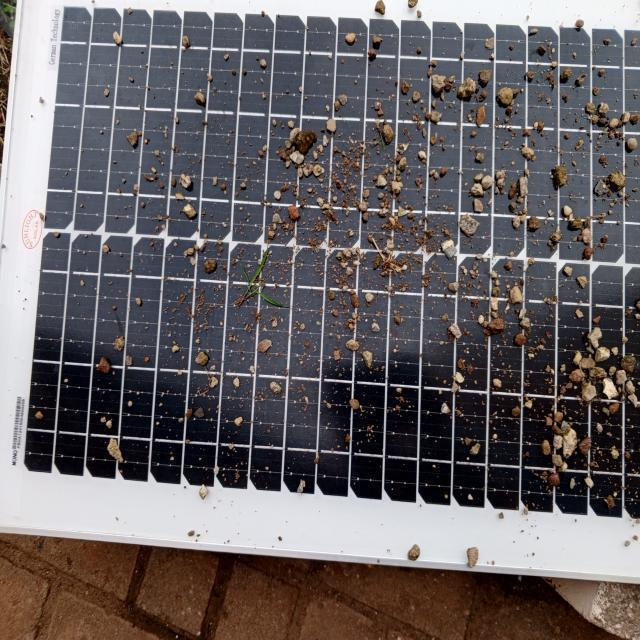Anomaly Solar Panel: (31, 3, 639, 512)
Surface Contaminant: (31, 3, 639, 512)
